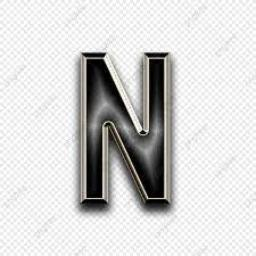n: (70, 44, 182, 218)
